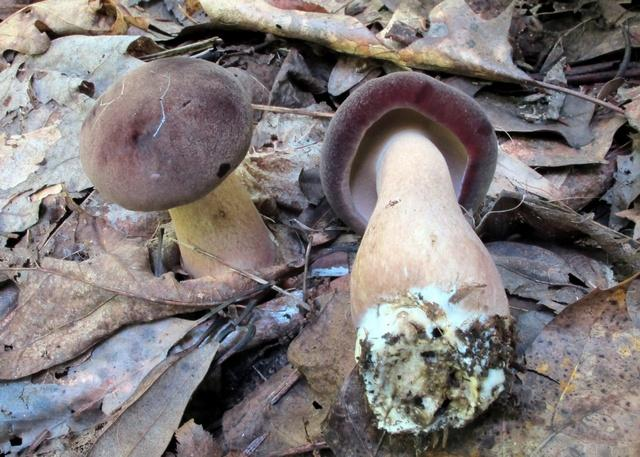poisonous_mushroom: (318, 69, 514, 436), (77, 54, 279, 286)
